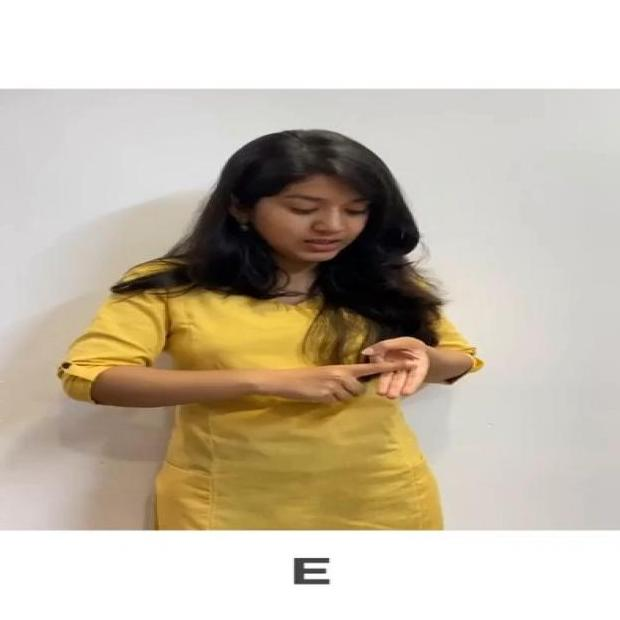D: (252, 329, 446, 417)
